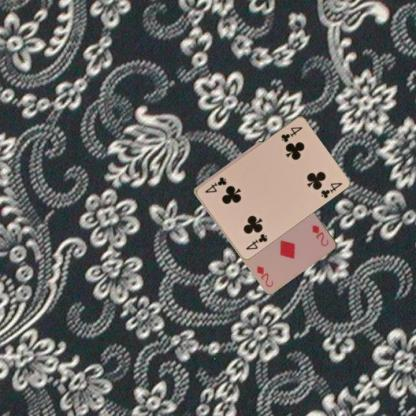2d: (310, 222, 330, 248)
4c: (278, 124, 304, 143), (244, 230, 268, 250)
